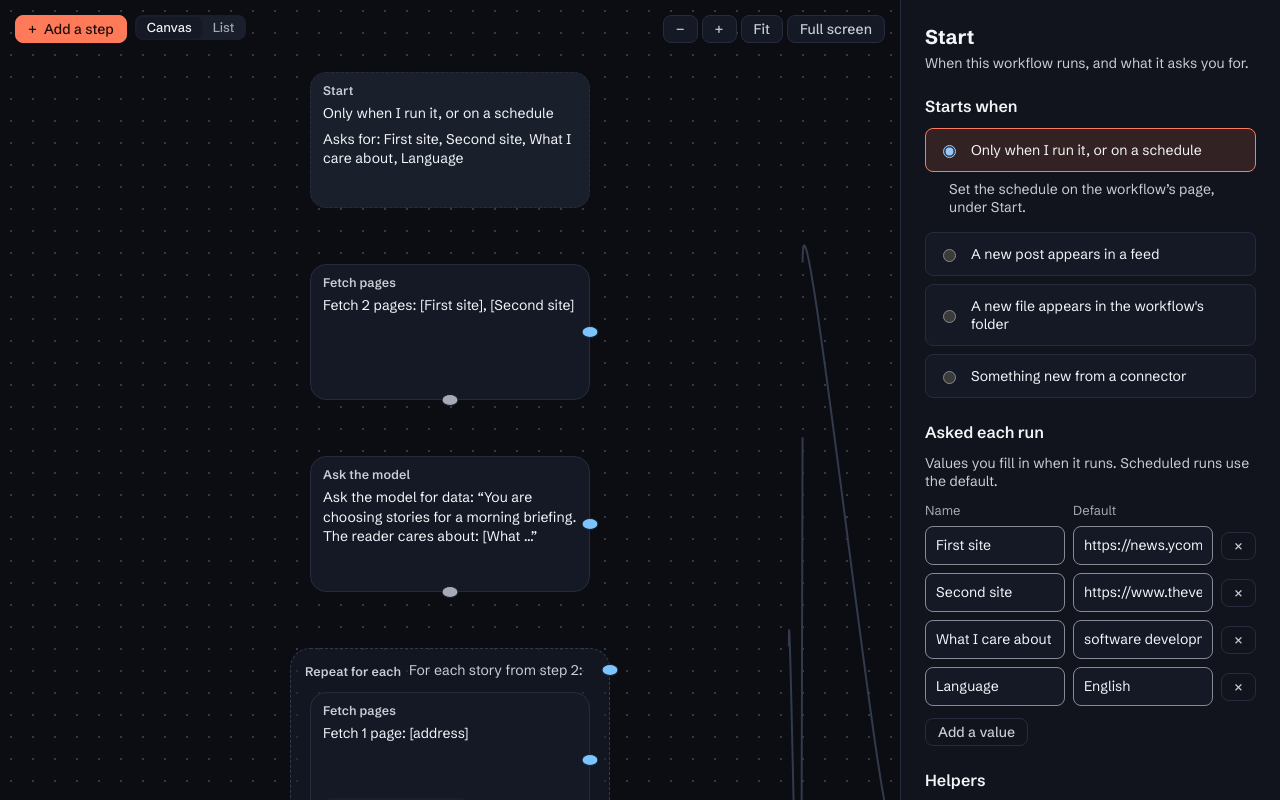
Scenario: editing on the canvas › closes the menu with Escape (focus back on the button) and on an outside click
This screenshot has width=1280, height=800.
Click the button "+ Add a step" at (71,29), box top-left (15, 15), bottom-right (127, 43)
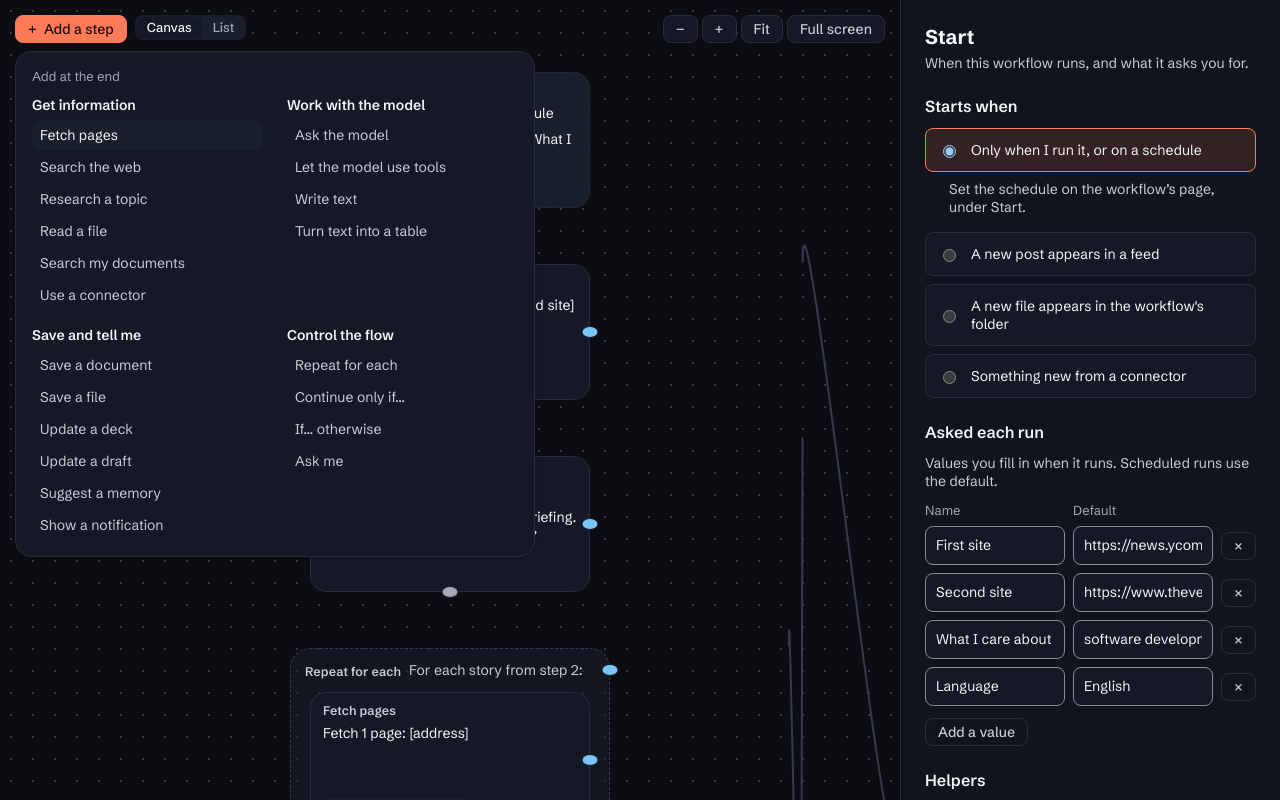
Press Escape in the menu named "Add a step", box top-left (15, 51), bottom-right (535, 557)
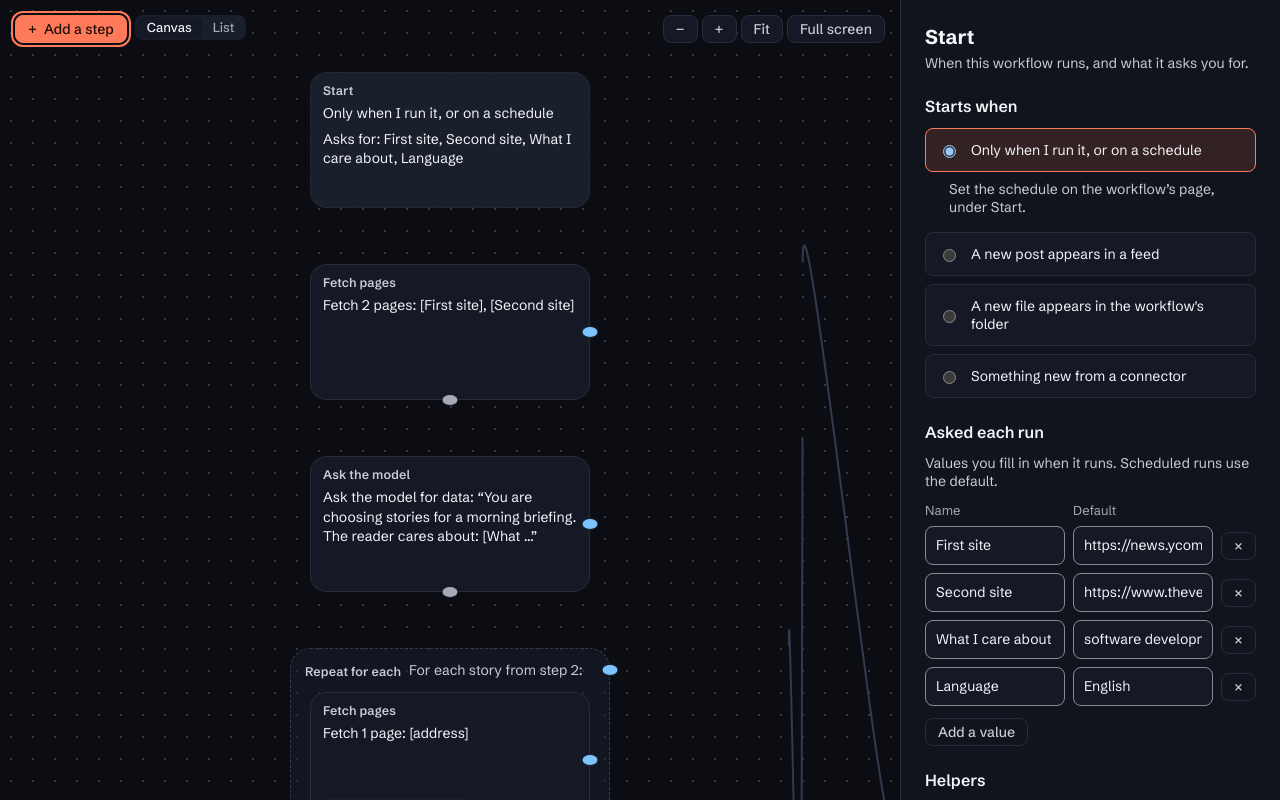
Result: the menu is gone
Click the button "+ Add a step" at (71,29), box top-left (15, 15), bottom-right (127, 43)
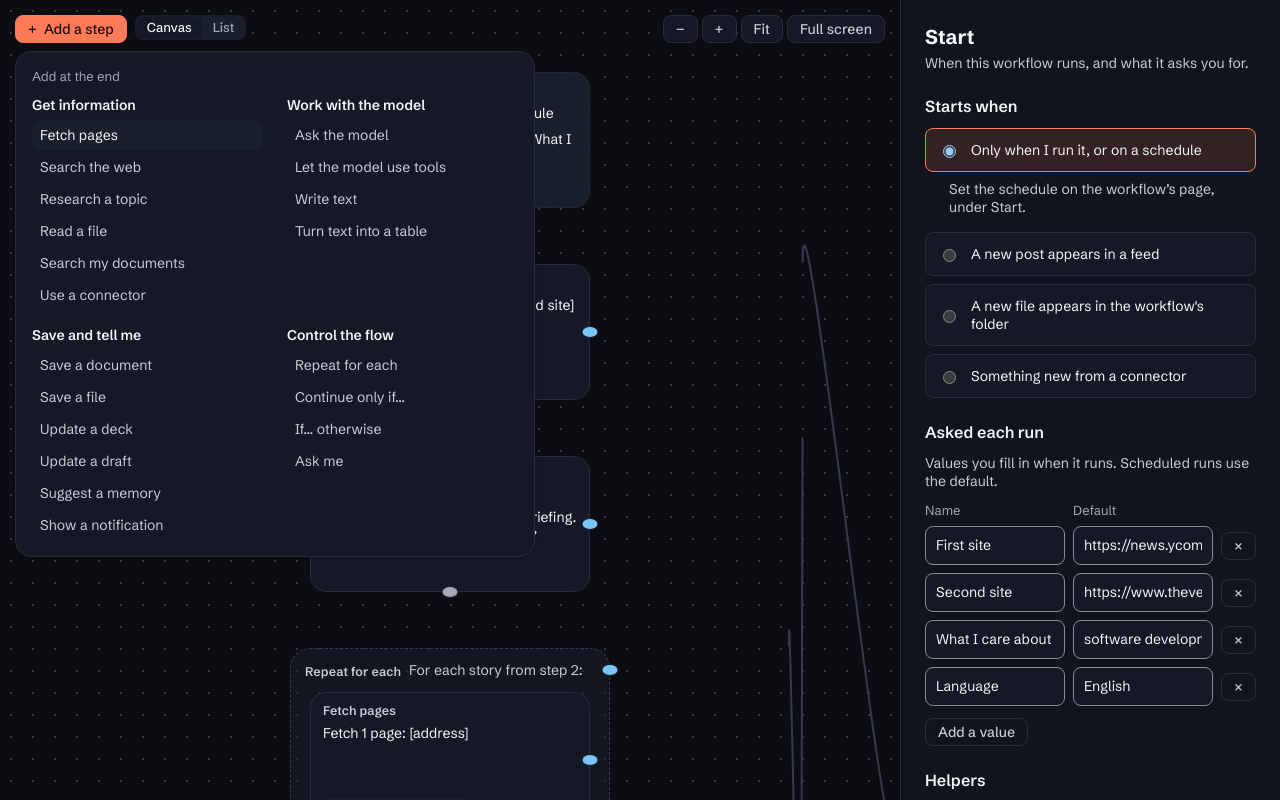
Press the mouse on the element that starts with "Start" at (640,400), box top-left (0, 0), bottom-right (1279, 799)
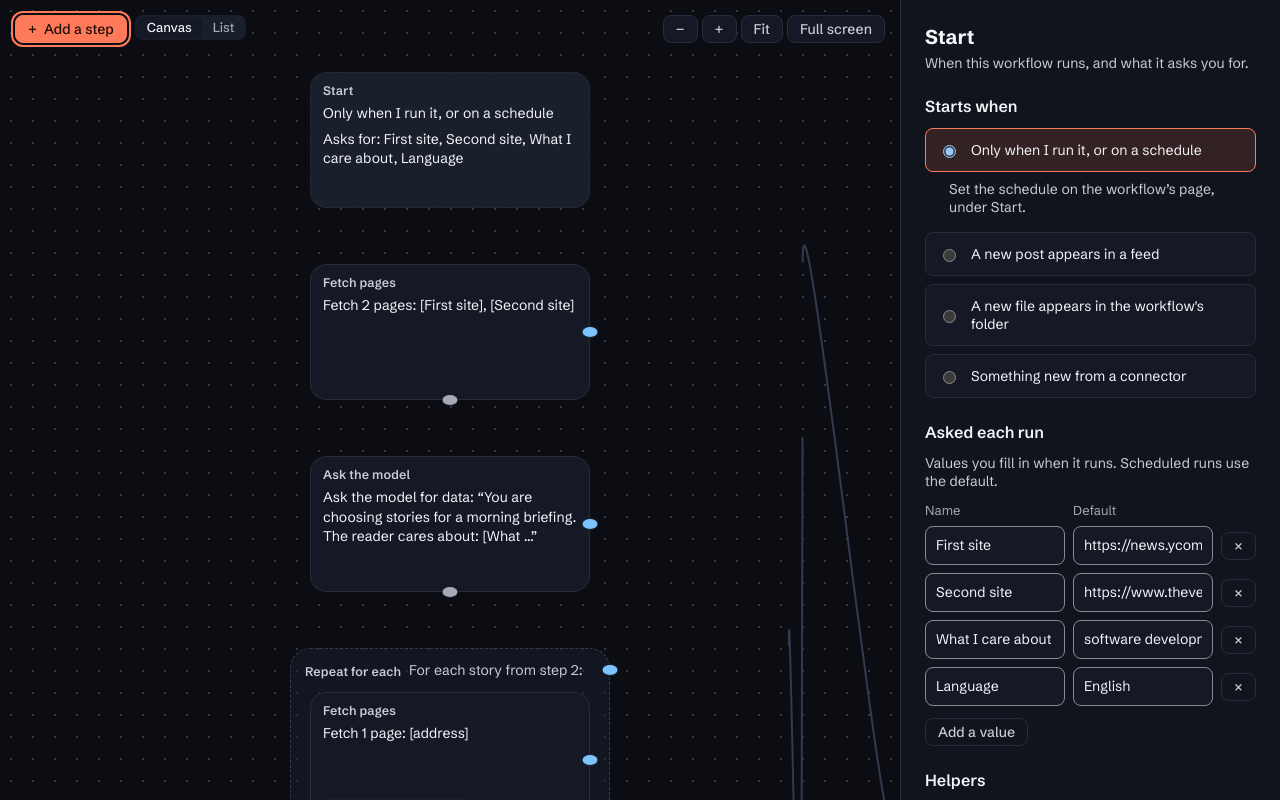
Result: the menu is gone
